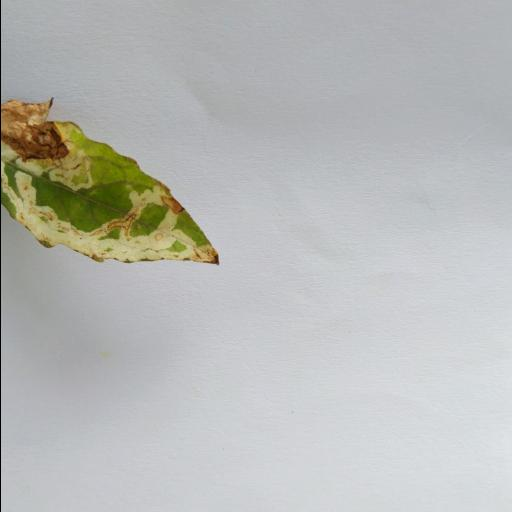disease_tomato: (0, 94, 230, 268)
